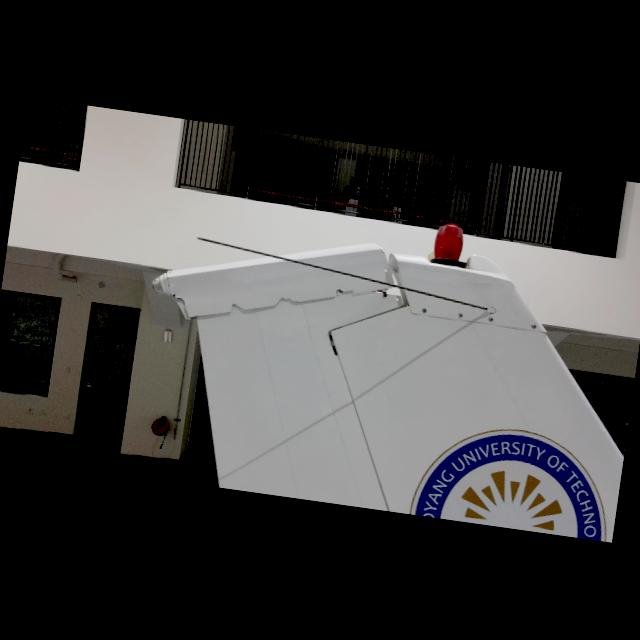Missing Fastener: (384, 268, 389, 274), (394, 297, 400, 302)
